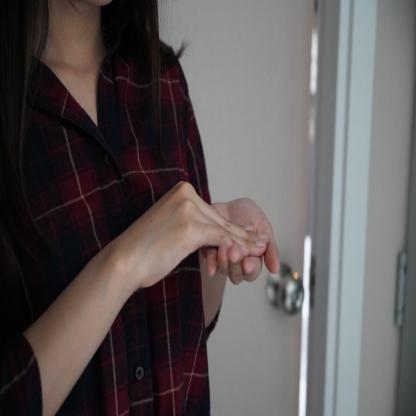Love: (116, 178, 284, 289)
